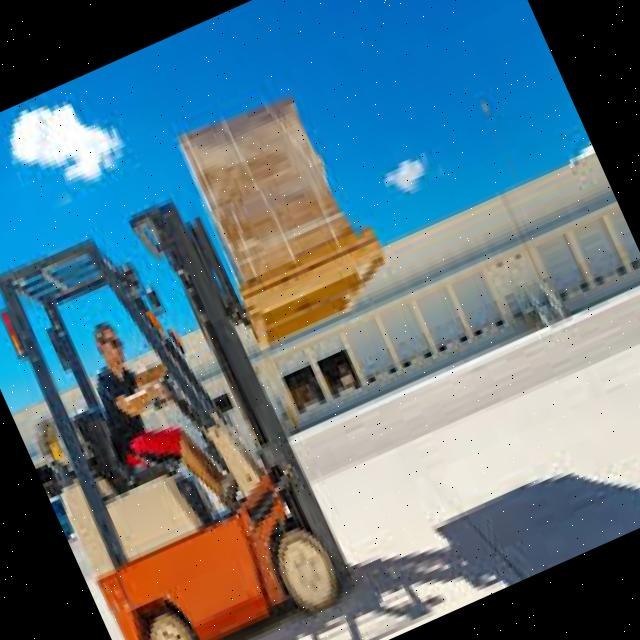Person: (65, 296, 247, 534)
